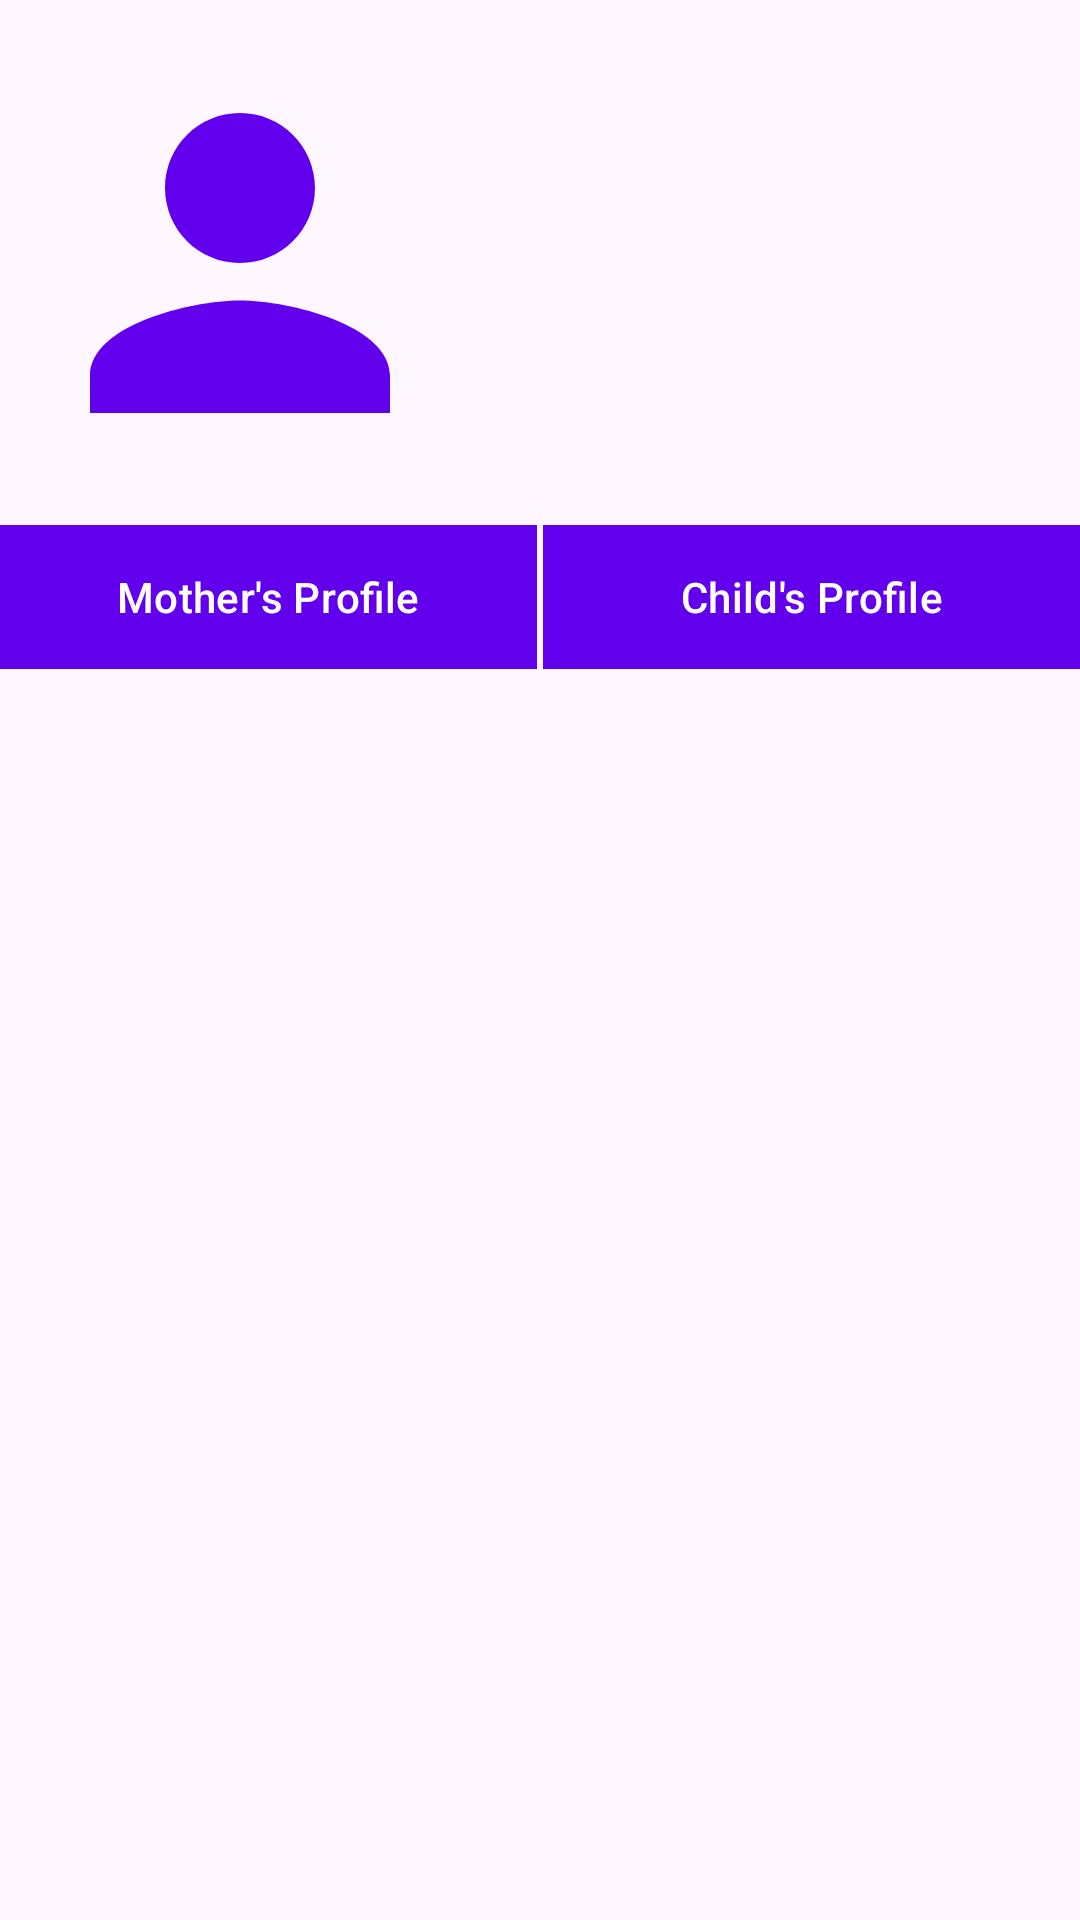

Icon bounding boxes for this 1080w x 1920h phone screenshot, format (x1, y1, x2, y2):
Patient Profile Image: (90, 113, 390, 413)
